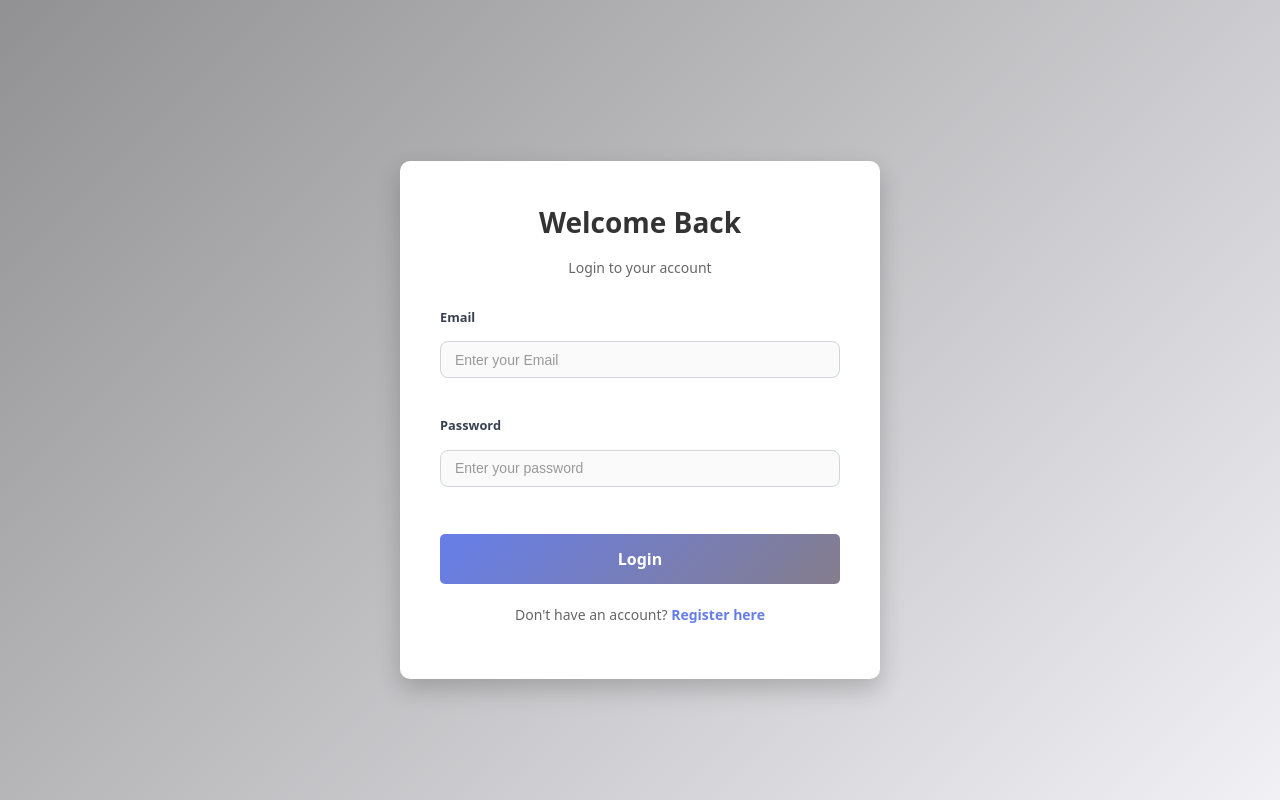
it: Login — error state › shows error message when login fails
Type "bad@test.com" into the field labelled "Email" at (640, 360), box [440,341,840,378]
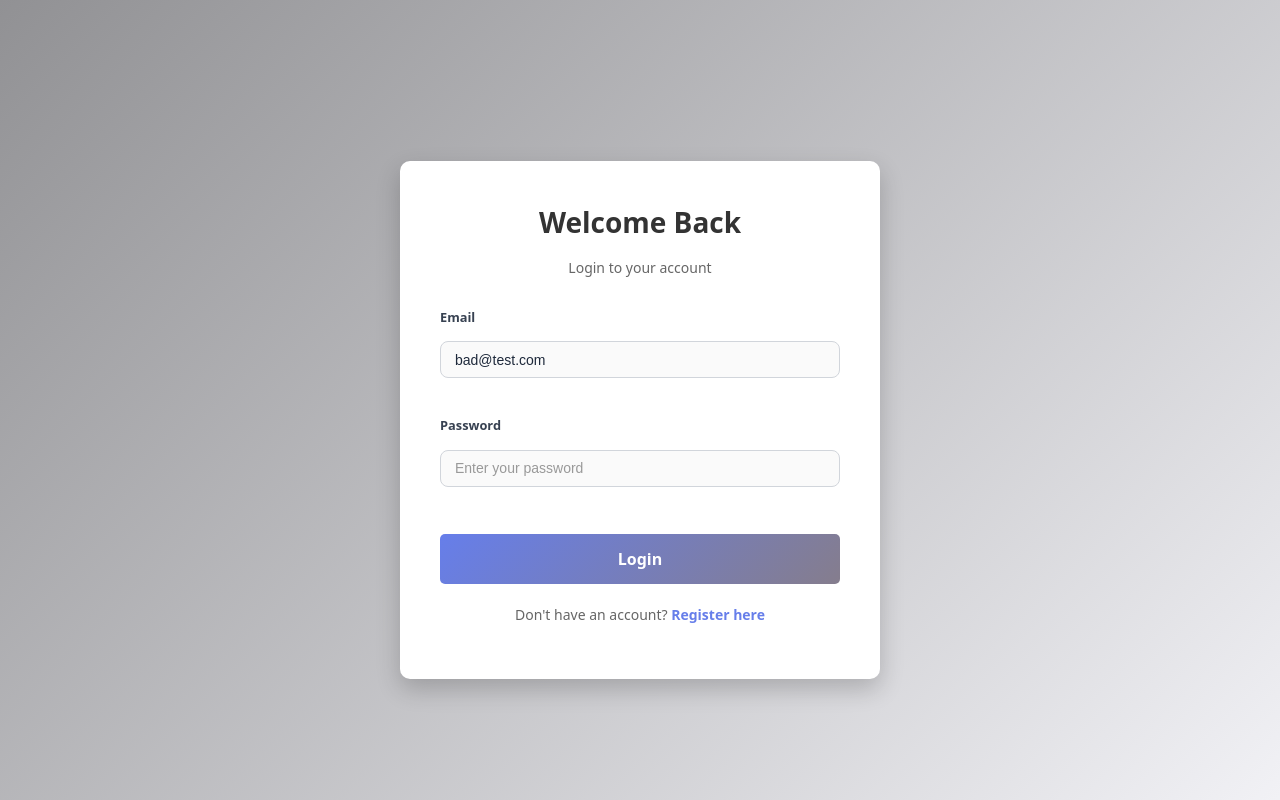
Type "wrongpass" into the password field labelled "Password" at (640, 468), box [440,450,840,487]
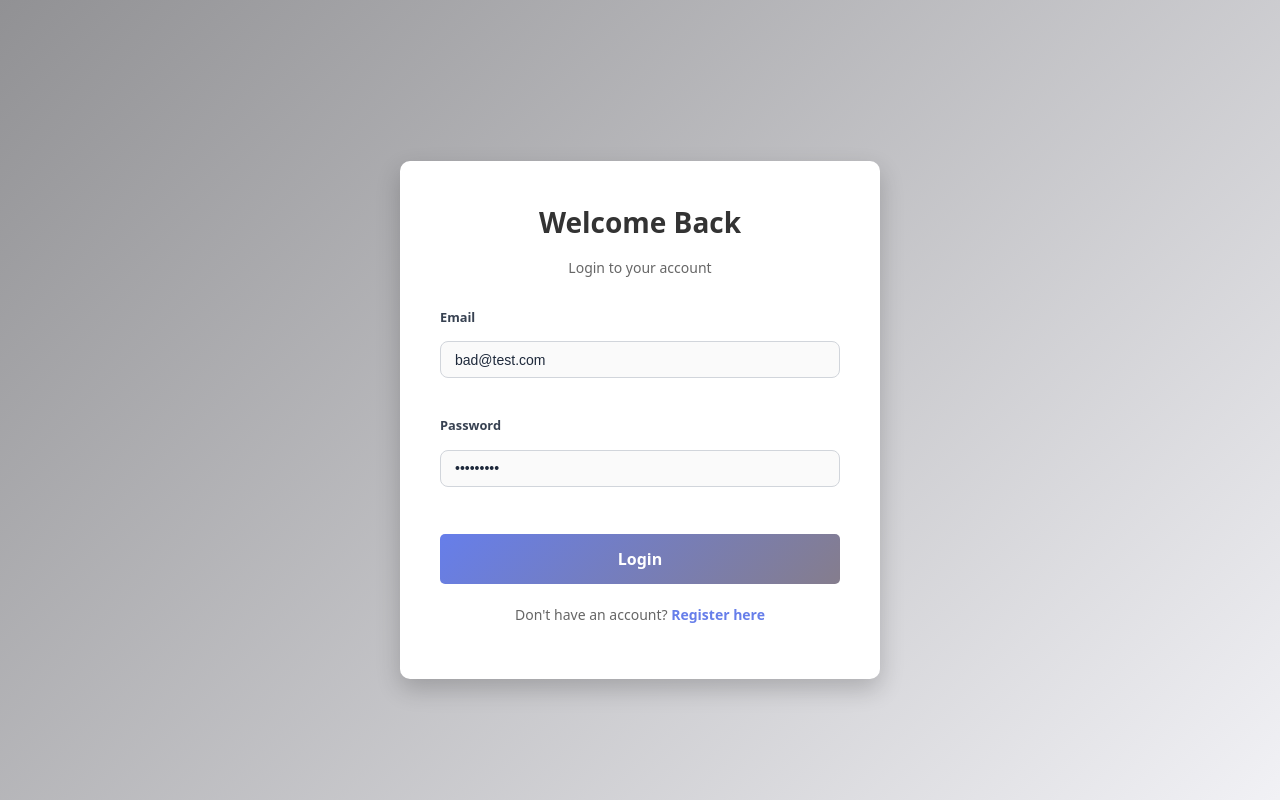
Click the button "Login" at (640, 559), box [440,534,840,584]
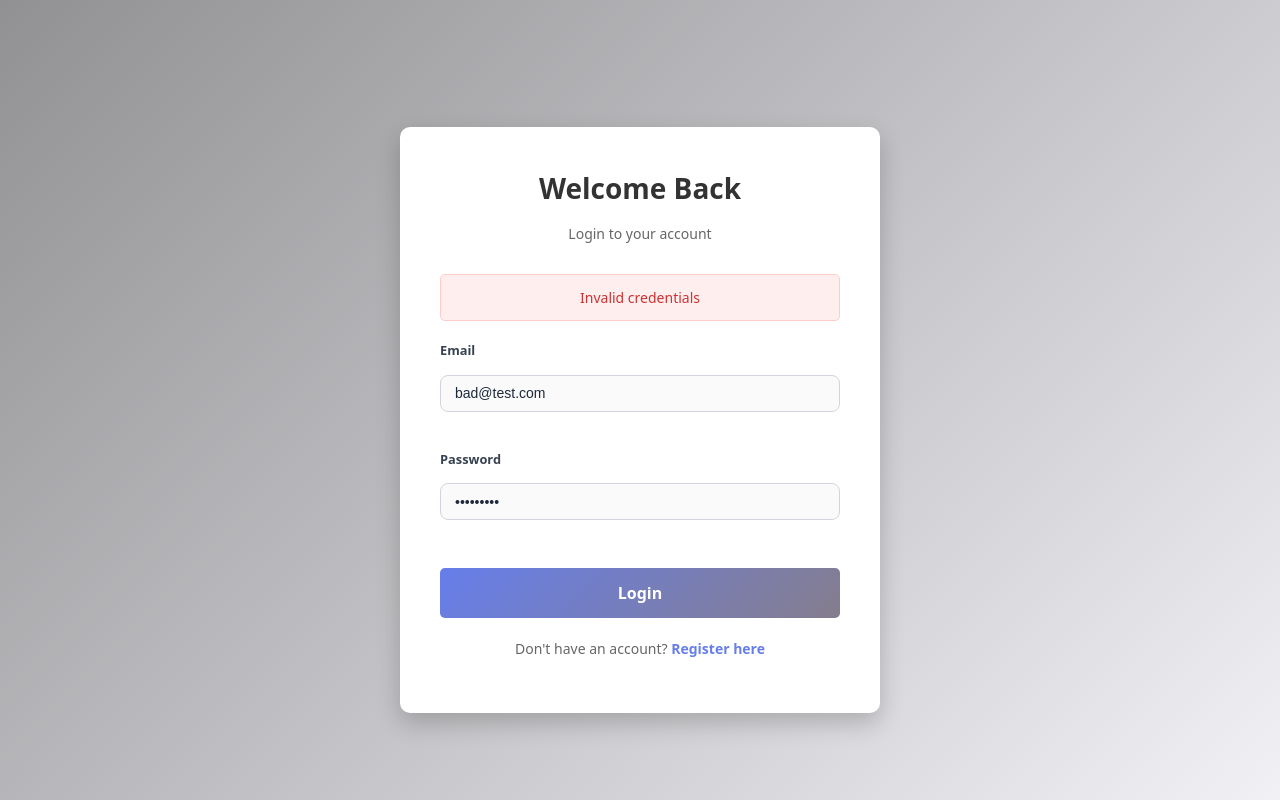
expect the text "Invalid credentials" is shown: met, box [440,274,840,321]
